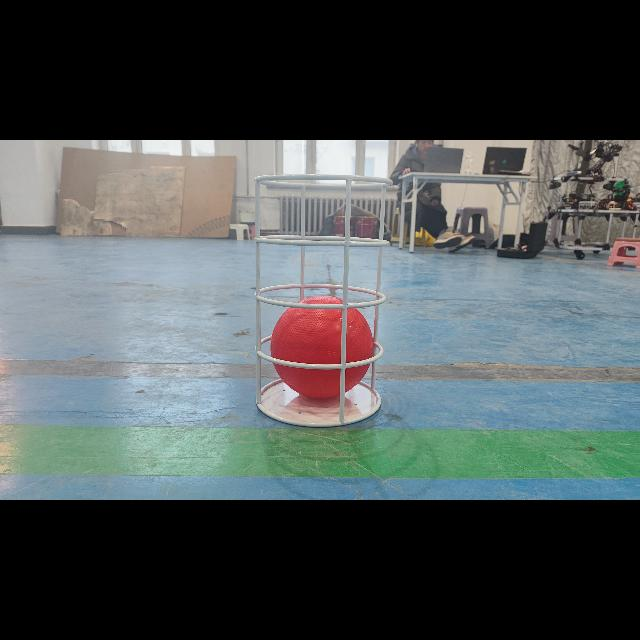R: (271, 294, 373, 400)
S: (247, 168, 398, 434)
